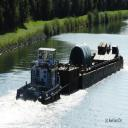tugboat: (15, 47, 63, 110)
